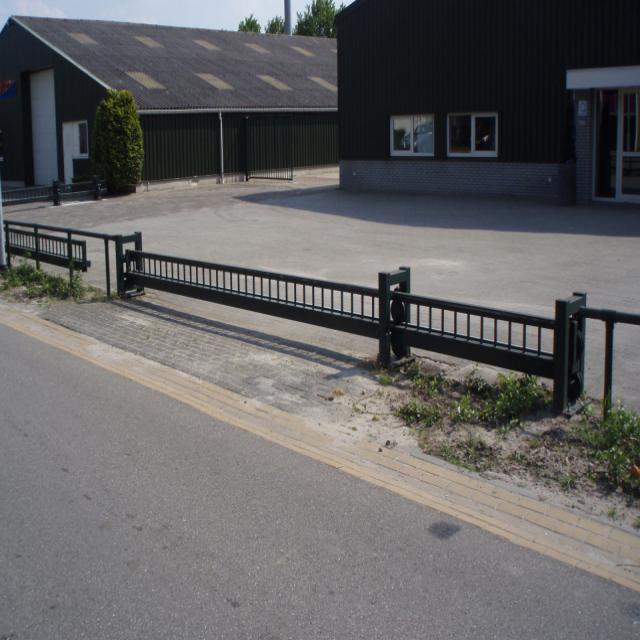fence line: (131, 245, 383, 340), (401, 306, 555, 371), (9, 222, 80, 270)
